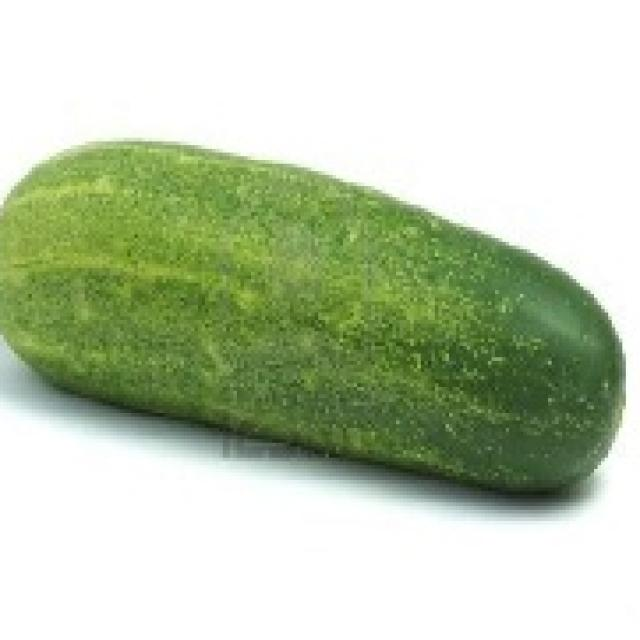cucumber: (0, 130, 619, 495)
